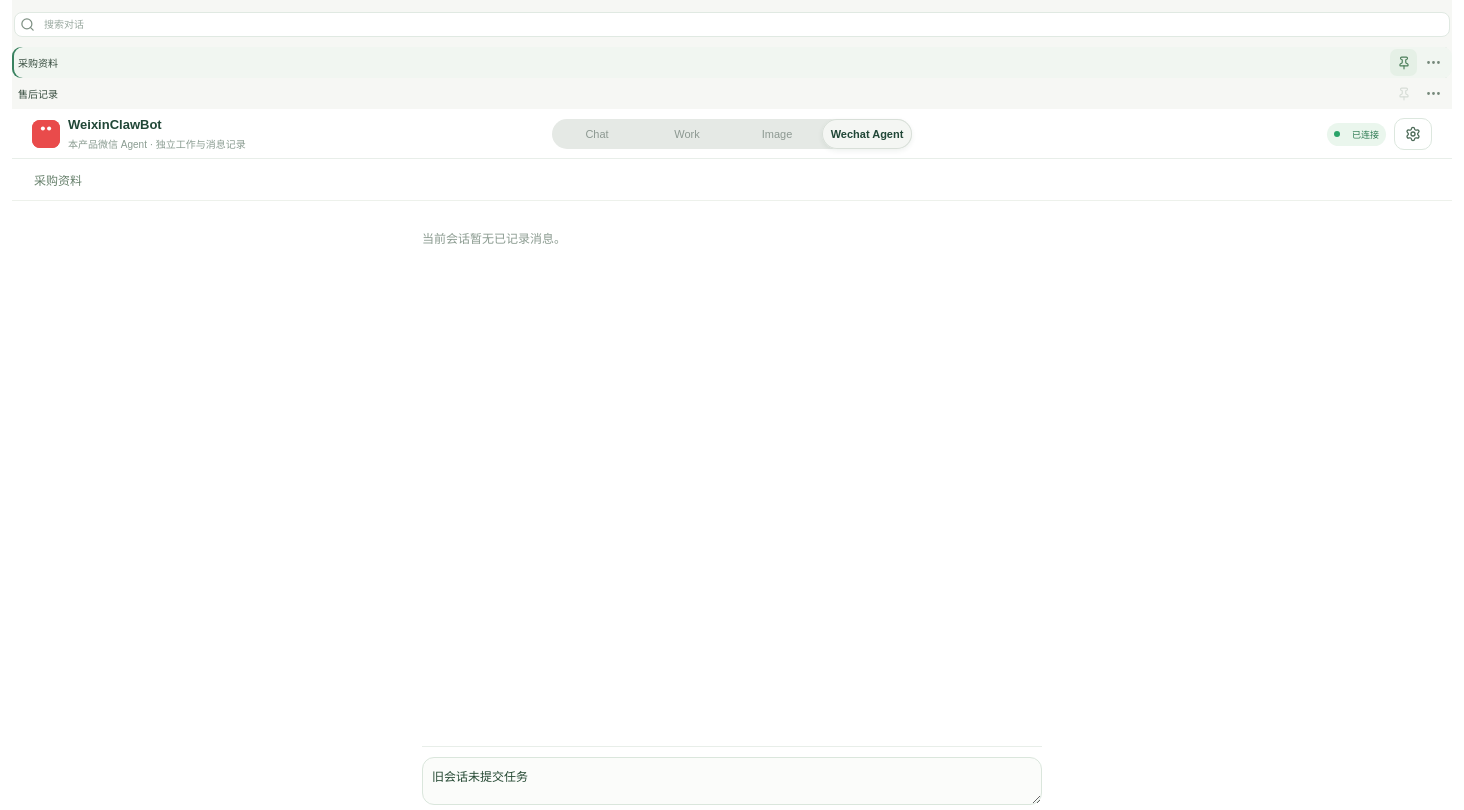
Test case: single canonical WeChat Agent › aborts previous message reads when switching conversations
Click the button "售后记录": (38, 94) [12, 80, 1390, 107]
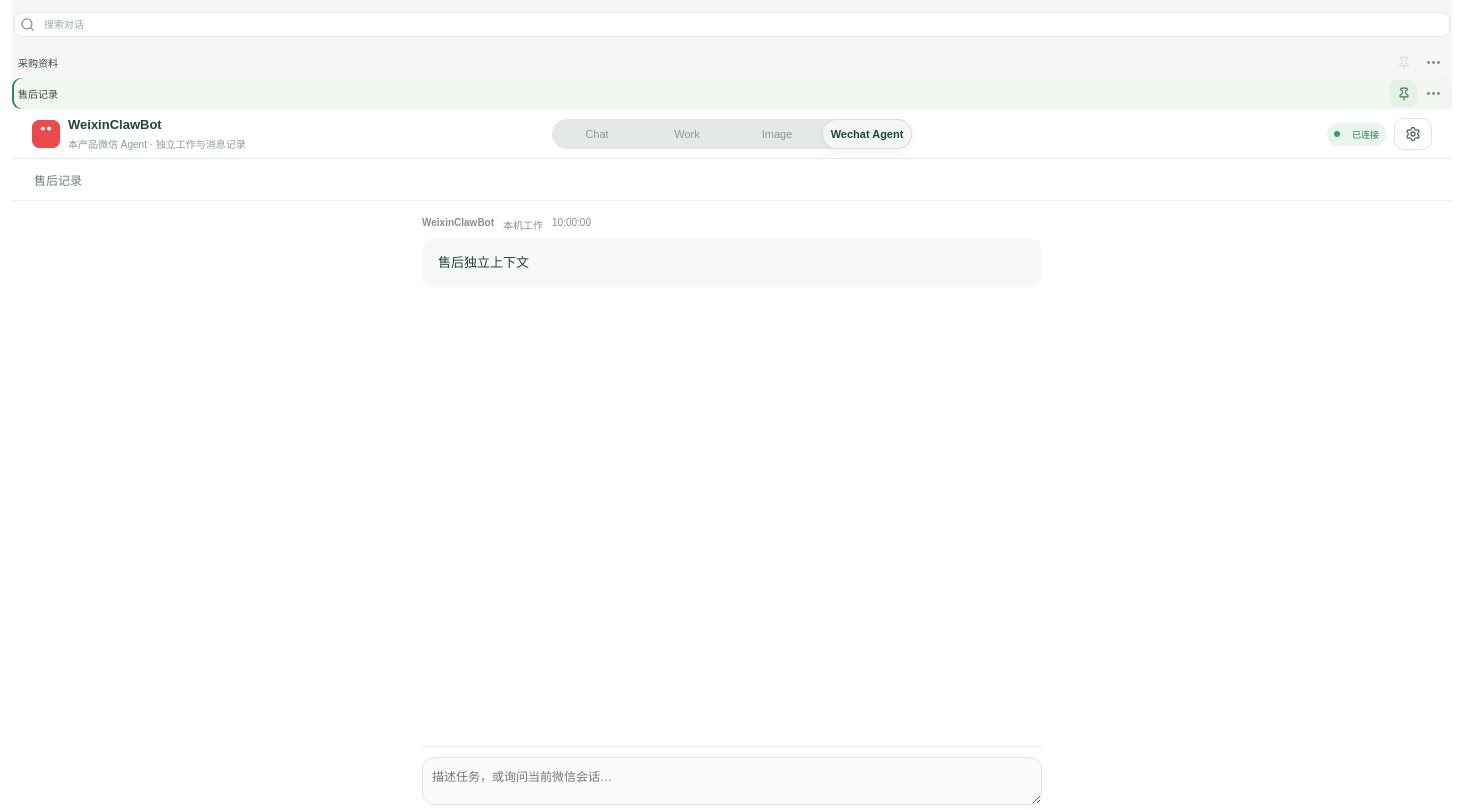
Now the text "售后独立上下文" is shown, box [422, 238, 1042, 287]
